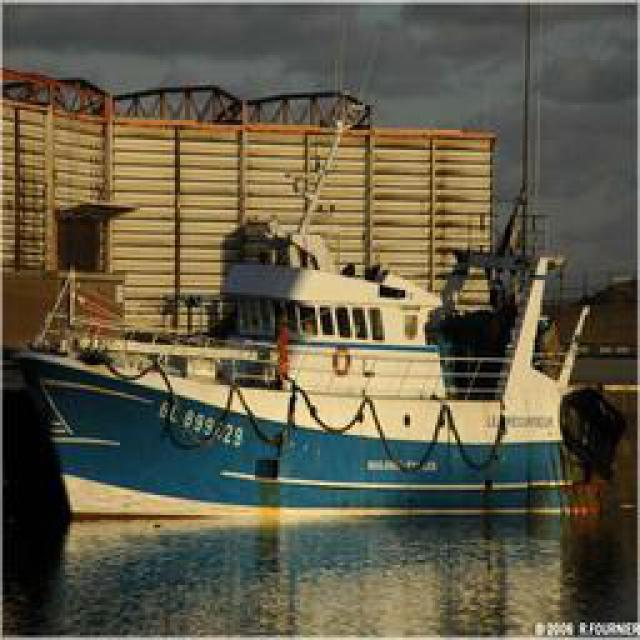Ship: (27, 197, 630, 530)
